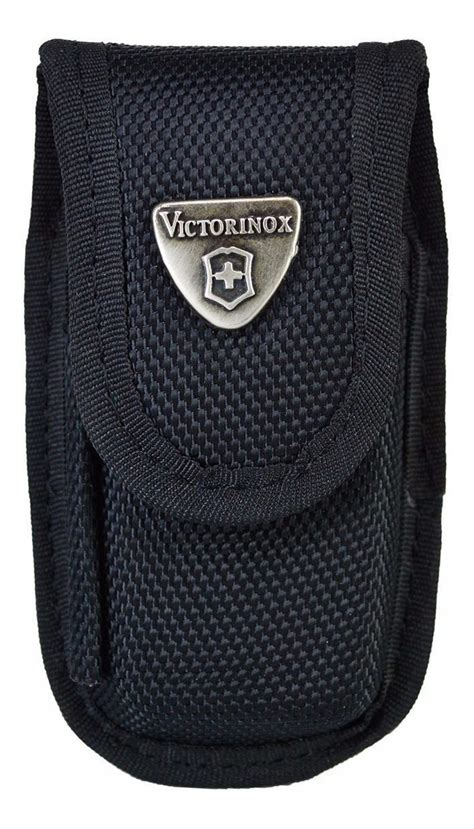nylon: (28, 36, 445, 788)
